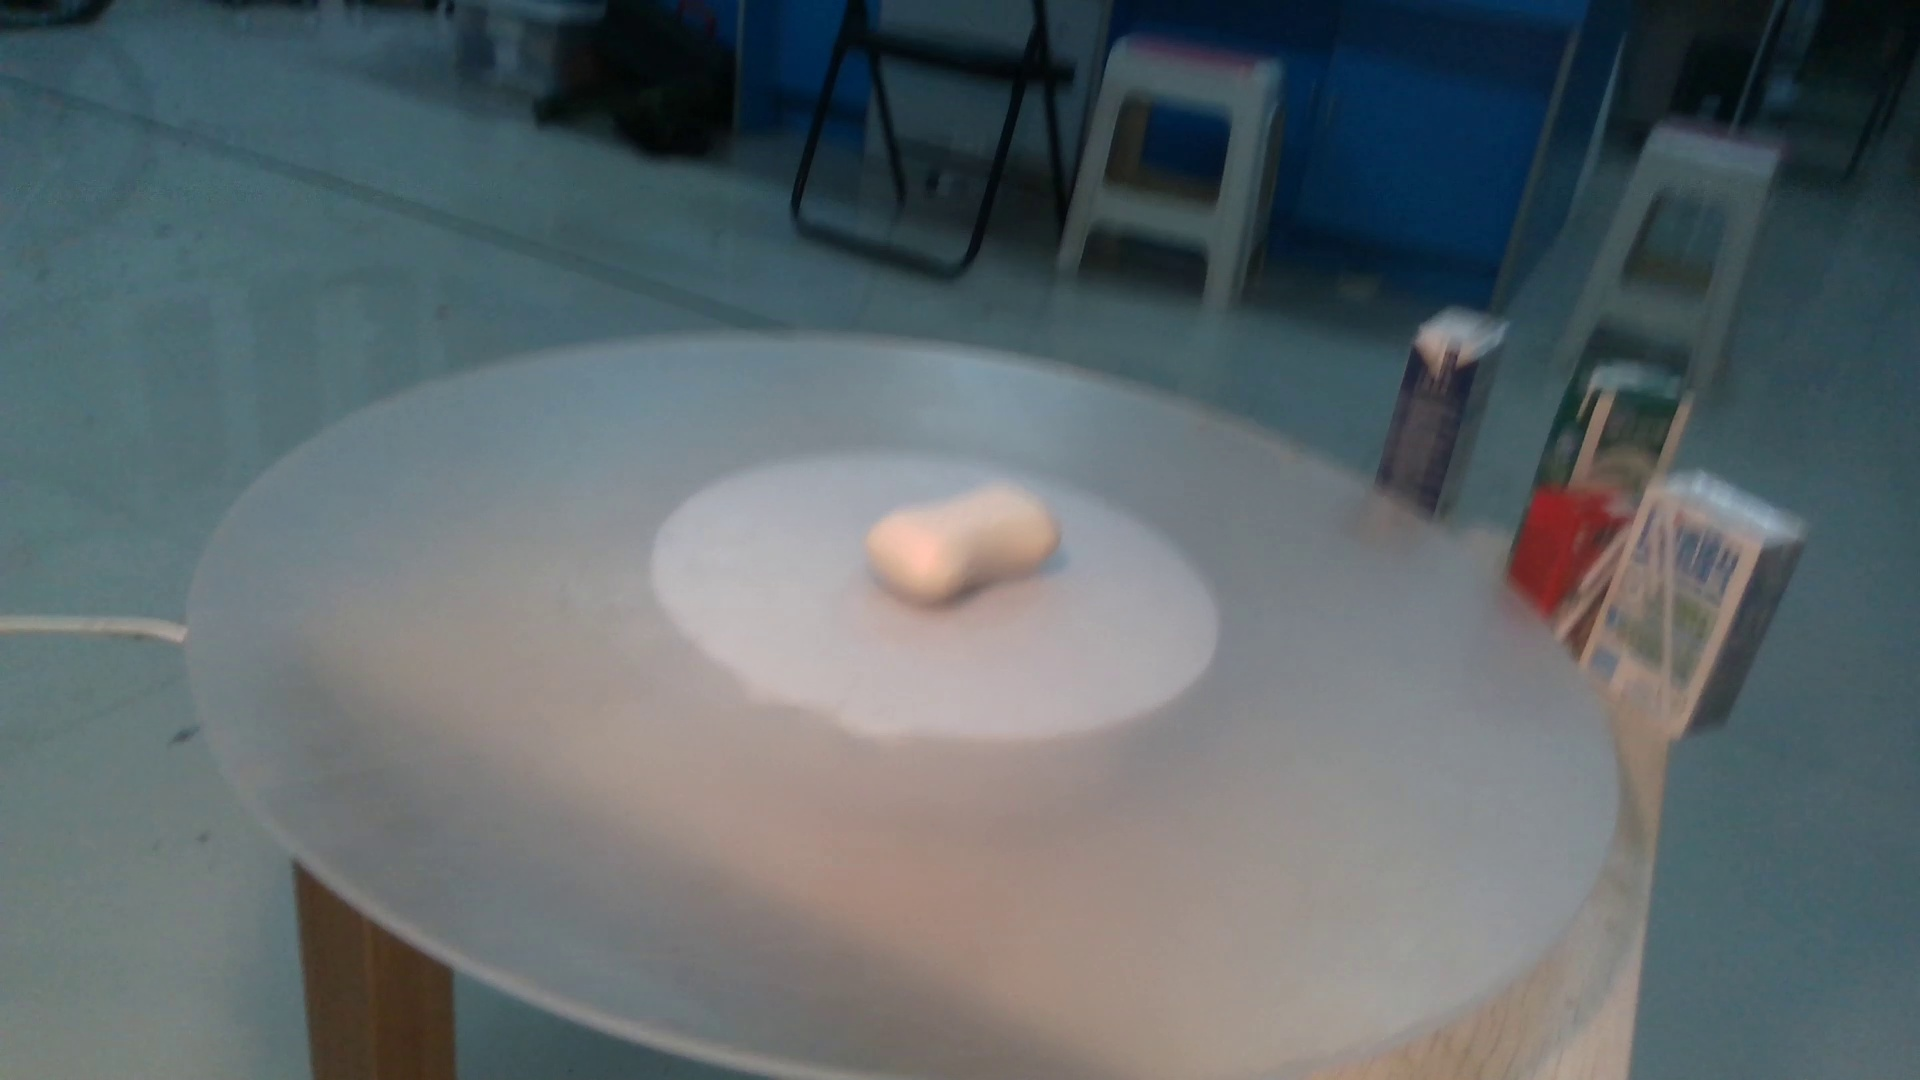CA003_1: (851, 464, 1084, 620)
